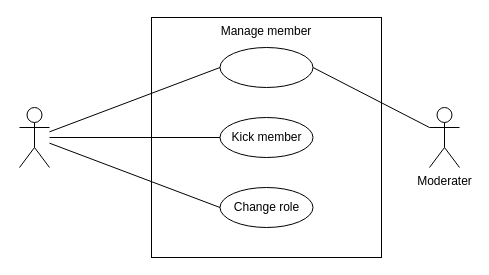
Some shapes in this 489 by 275 pixel diagram are drawn without their labels. The centre of each missing label's shape, as x and y in pixels:
Admin: pixel 34 137
Invite member: pixel 266 67
